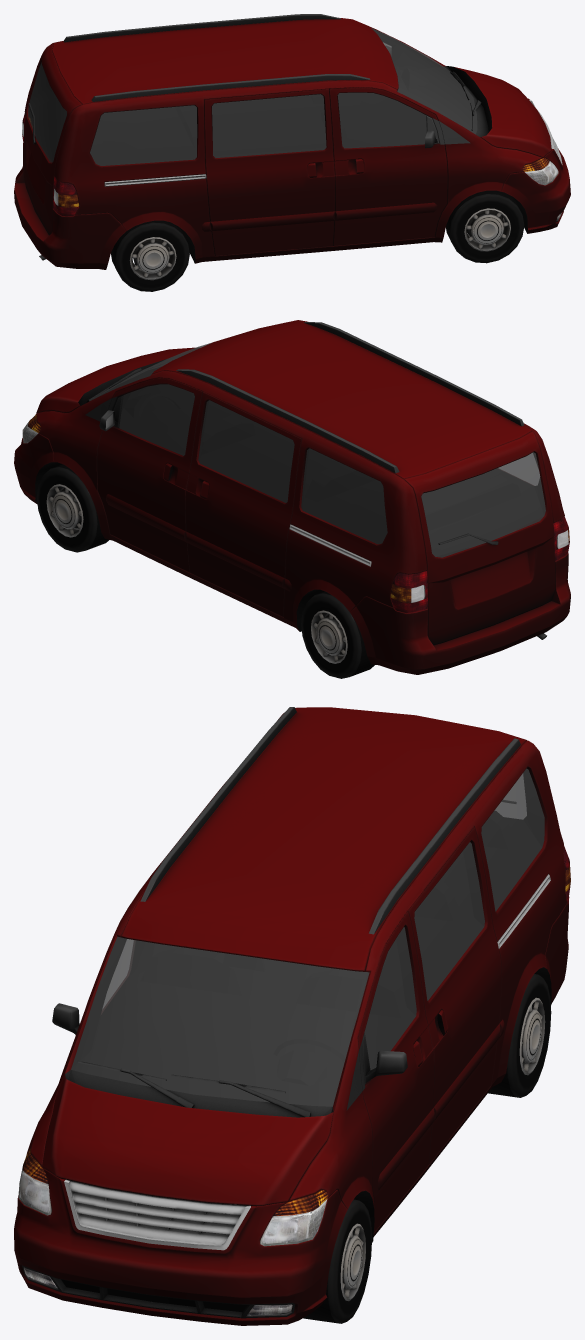
File: auto 2.fbx
3 views of the same model, one above another, from view 1: azimuth 30°, elevation 25°; view 2: azimuth 150°, elevation 25°; view 3: azimuth 270°, elevation 25° (orthographic). The views are drawn at different scales.
Parts seen in each view (by area): view 1: Wheel_D002; view 2: Wheel_D002; view 3: Wheel_D002.
Part boxes in pixels (x1,y1,x2,y2): Wheel_D002: [14, 14, 570, 291]; Wheel_D002: [14, 320, 570, 678]; Wheel_D002: [14, 707, 570, 1325].
Size of the model in its own units: 520 by 198 by 316.
4 materials, 3 textured.
